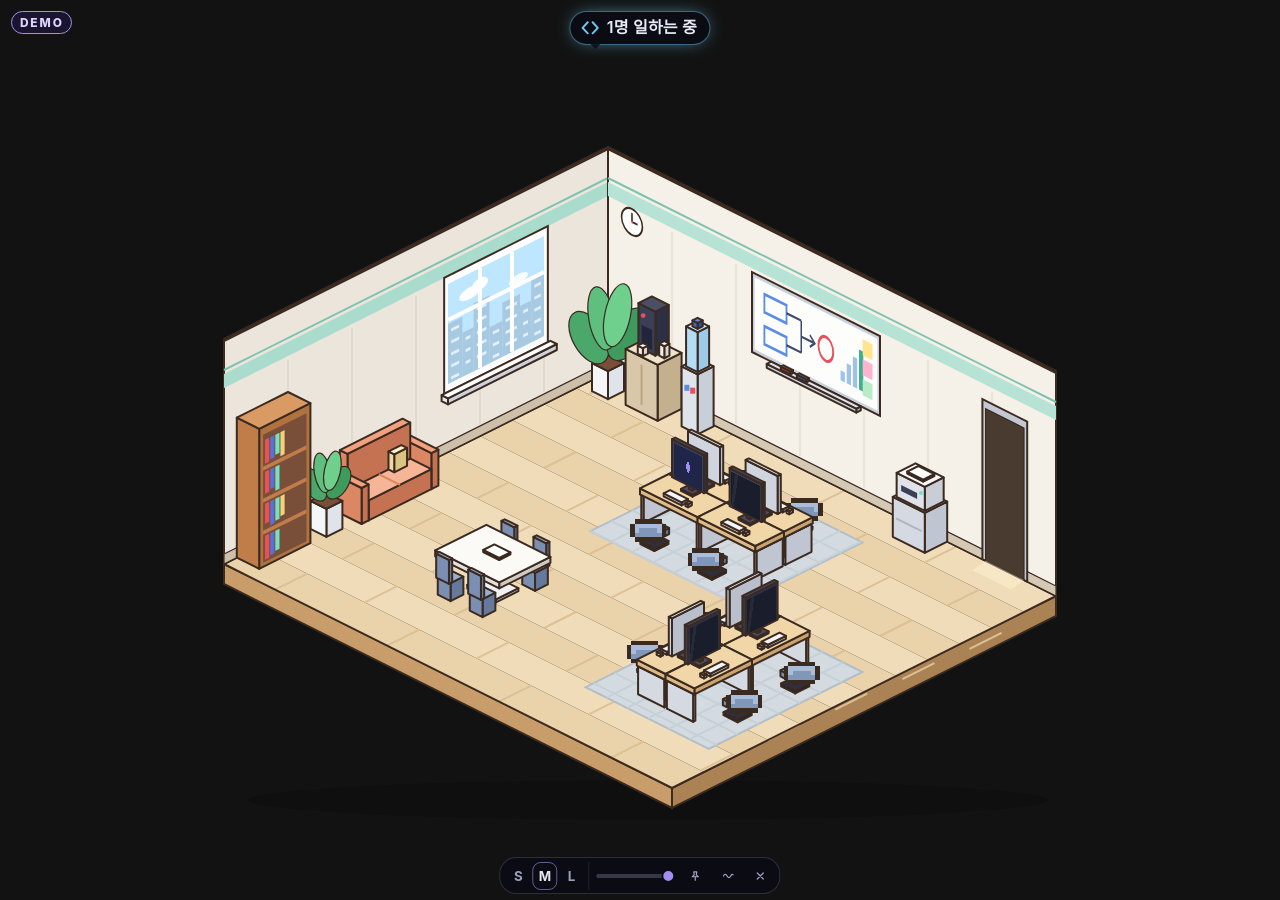
it: App source choice: real Claude Code sessions vs the demo (FR-CC4, ADR-024) › switches from the panel, remembers the choice and hides the demo picker while showing real sessions
Click the button "1명 일하는 중". click: (640, 28)
box: [569,11,711,44]
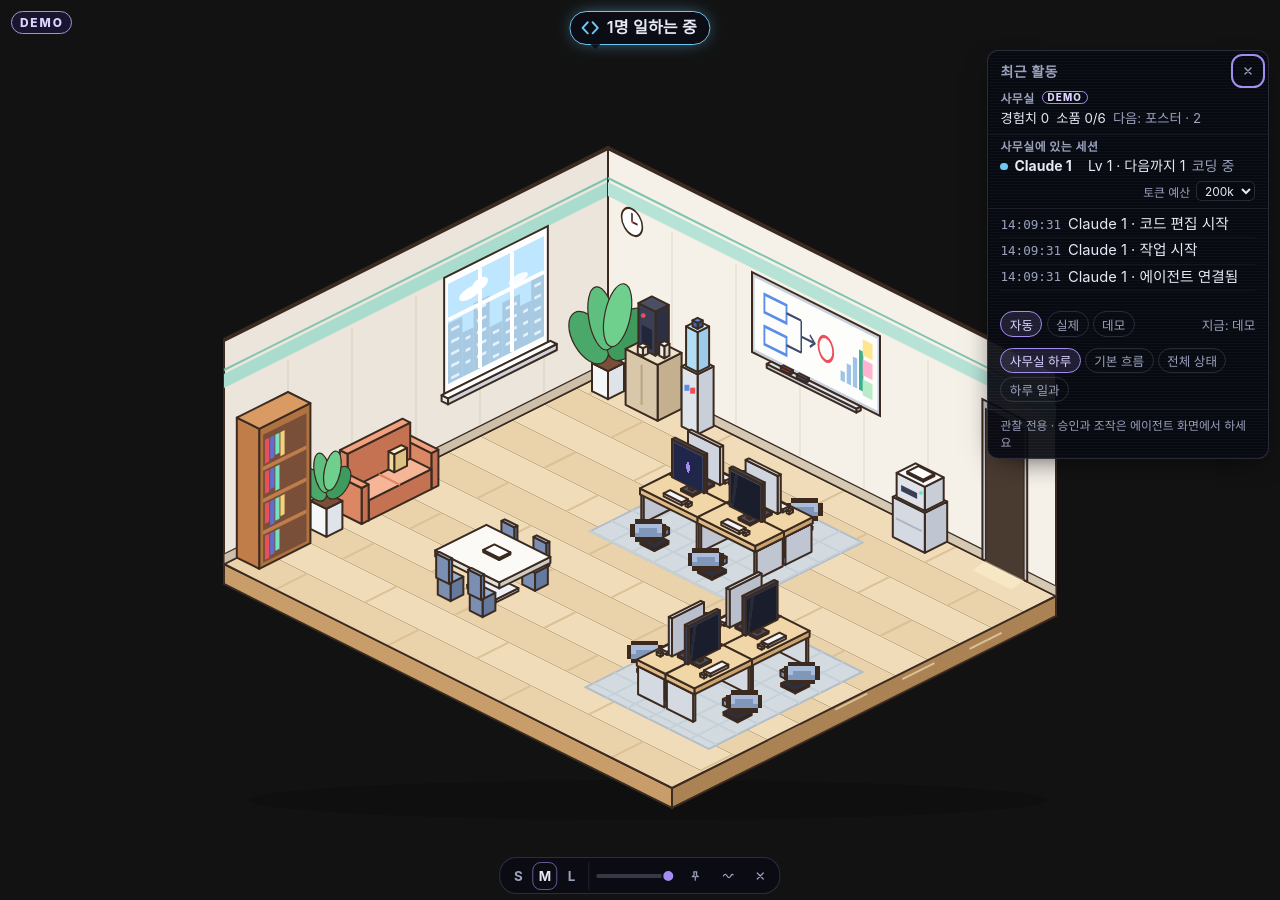
Check: the element named "보기" shows "지금: 데모", box [1202,318,1255,333]
Check: the element named "데모 시나리오" is shown, box [1000,348,1226,402]
Click the button "실제". click: (1068, 324)
box: [1047,312,1089,337]
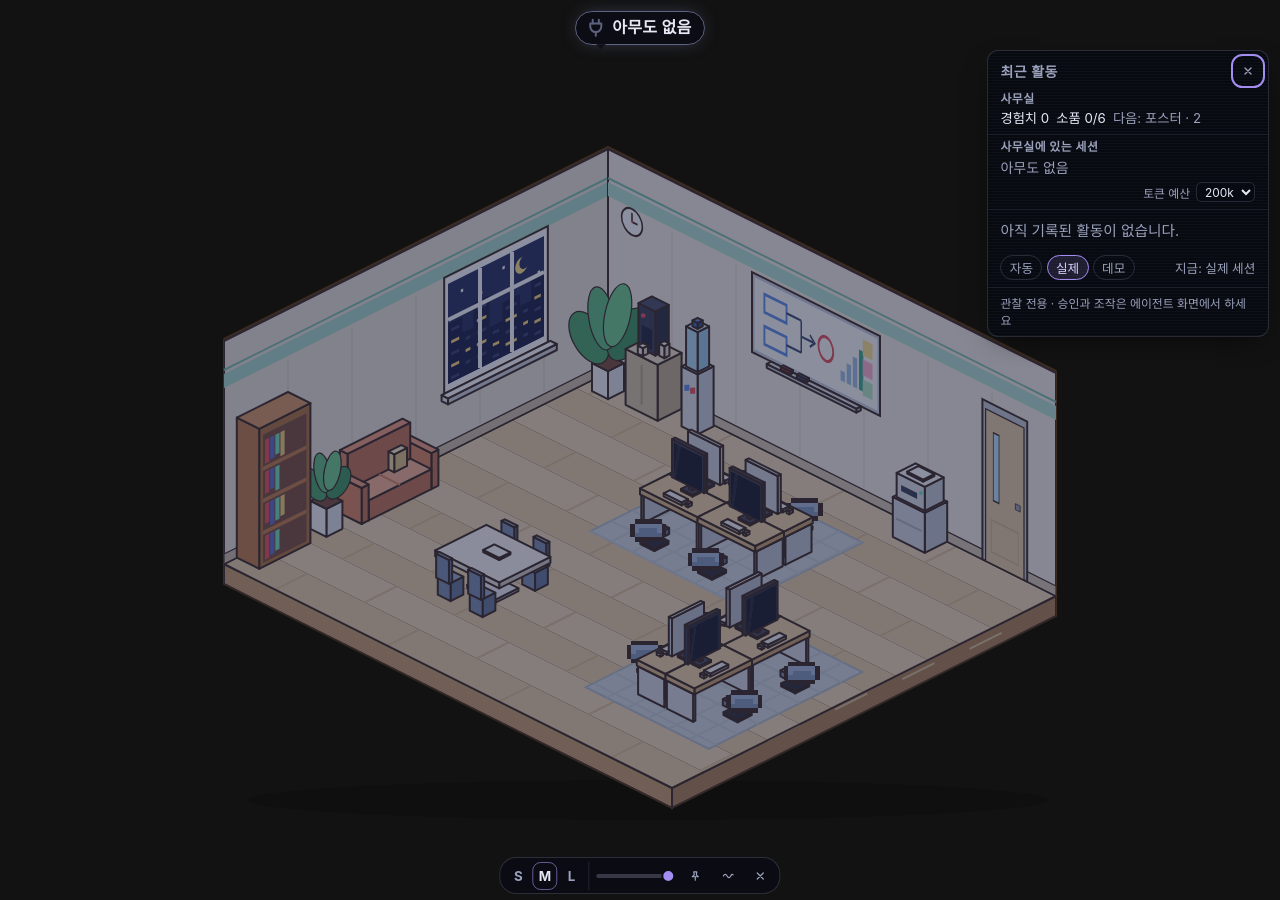
Check: the element named "보기" shows "지금: 실제 세션", box [1175,261,1255,276]
Check: the text "DEMO" is gone
Check: the 1st text "아무도 없음" is shown, box [612,18,692,38]
